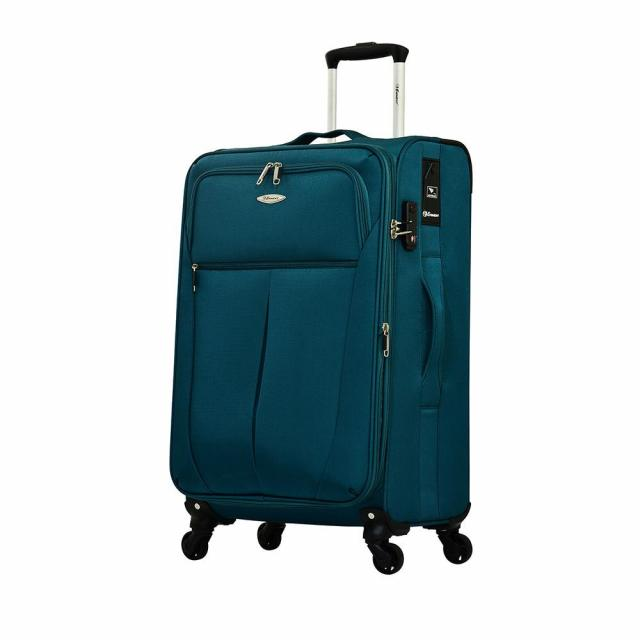luggage: (165, 125, 482, 535)
